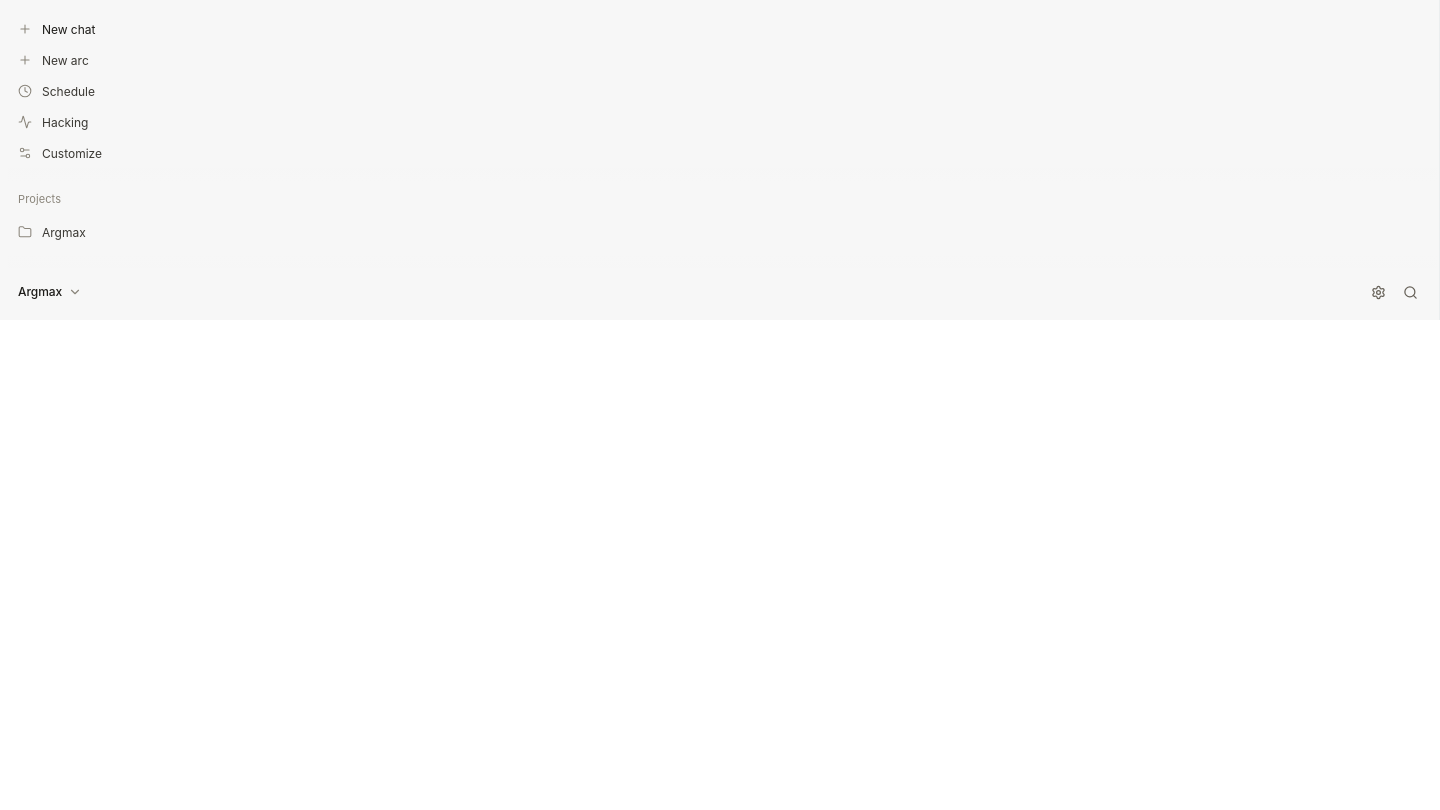
Test: Sidebar — Arcs section › omits empty section headings and keeps arc creation available
Click the button "New arc".
click(65, 60)  # box top-left (8, 45), bottom-right (1425, 75)
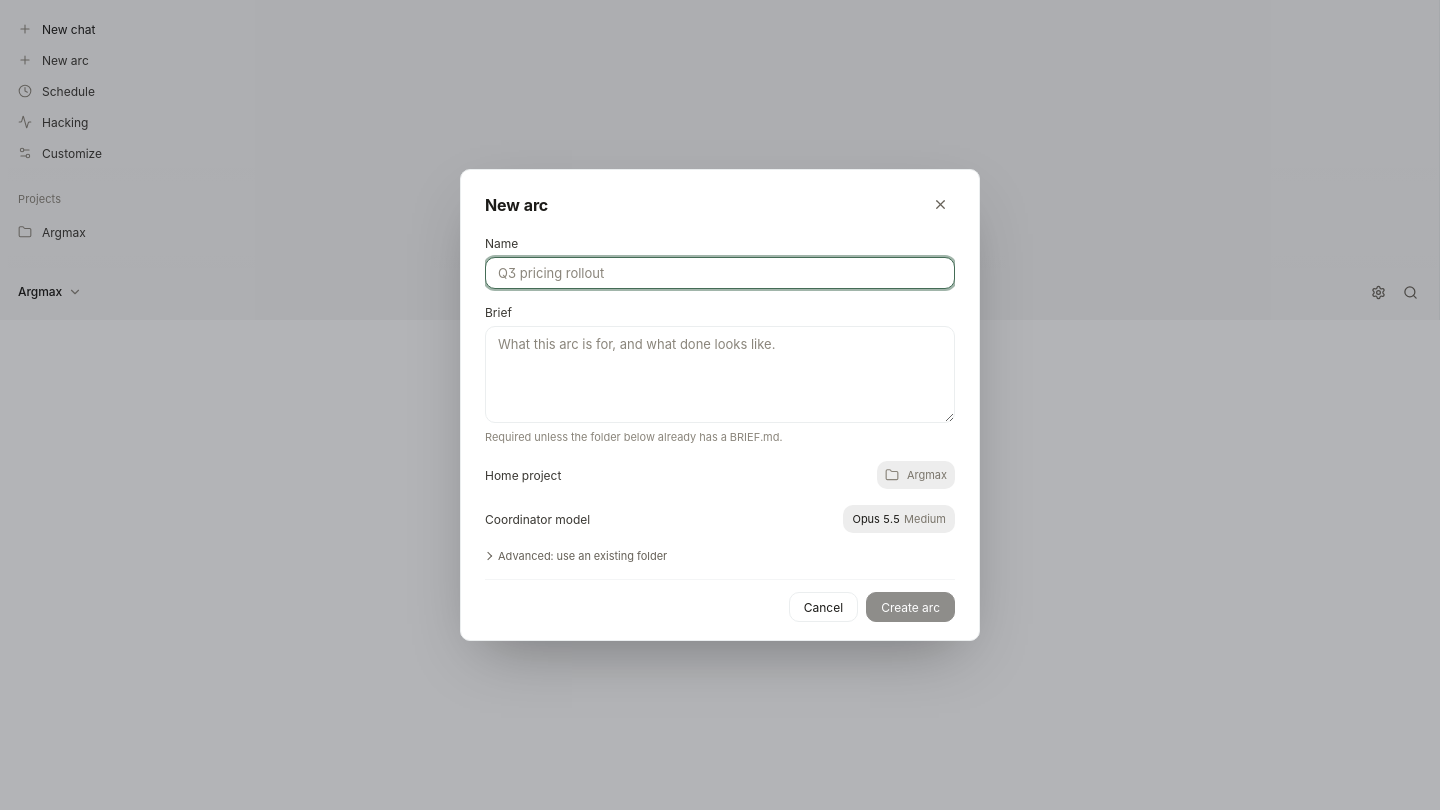
Result: the dialog "New arc" is shown
